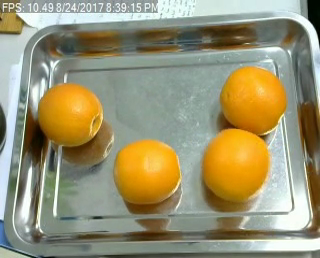Orange: (201, 127, 270, 201), (220, 66, 287, 133), (114, 140, 182, 204), (37, 82, 102, 145)
